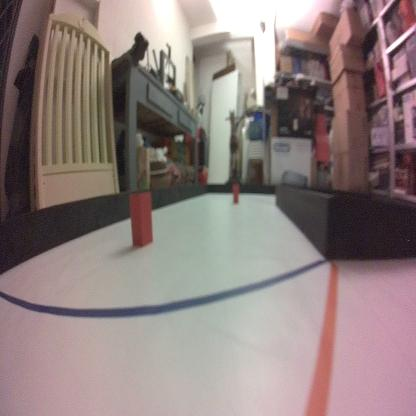red: (128, 189, 153, 248), (232, 183, 239, 204)
